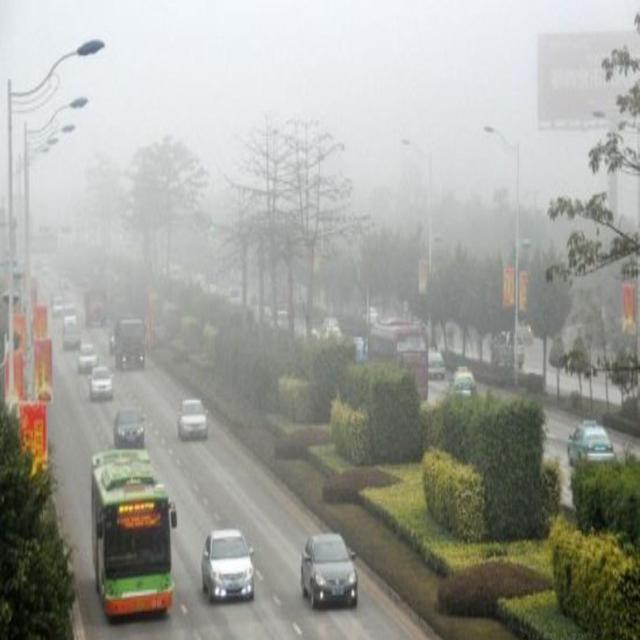bus: (115, 316, 145, 370), (84, 289, 105, 326)
car: (298, 534, 358, 610), (201, 527, 255, 603), (567, 423, 617, 466), (177, 398, 208, 442), (113, 408, 147, 448), (491, 333, 525, 371), (89, 364, 115, 400), (452, 371, 474, 400), (428, 350, 446, 382), (76, 342, 95, 371), (63, 323, 80, 348), (50, 297, 64, 315)
truck: (91, 453, 173, 623), (365, 318, 429, 403)
